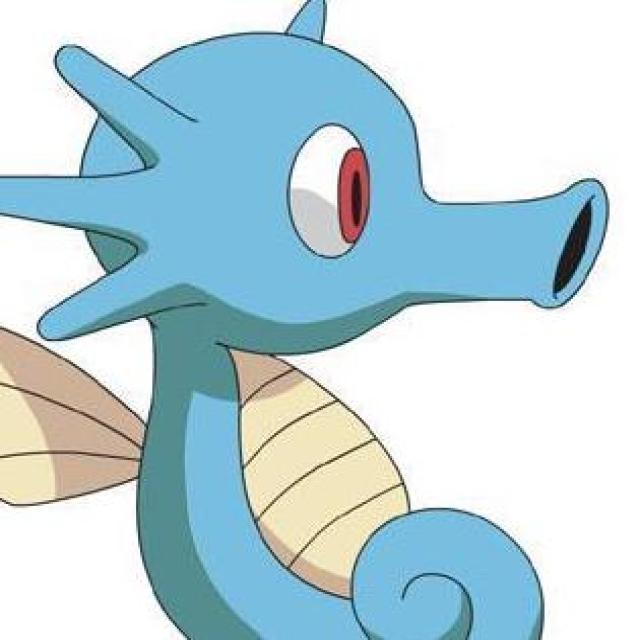Horsea: (56, 39, 602, 640)
